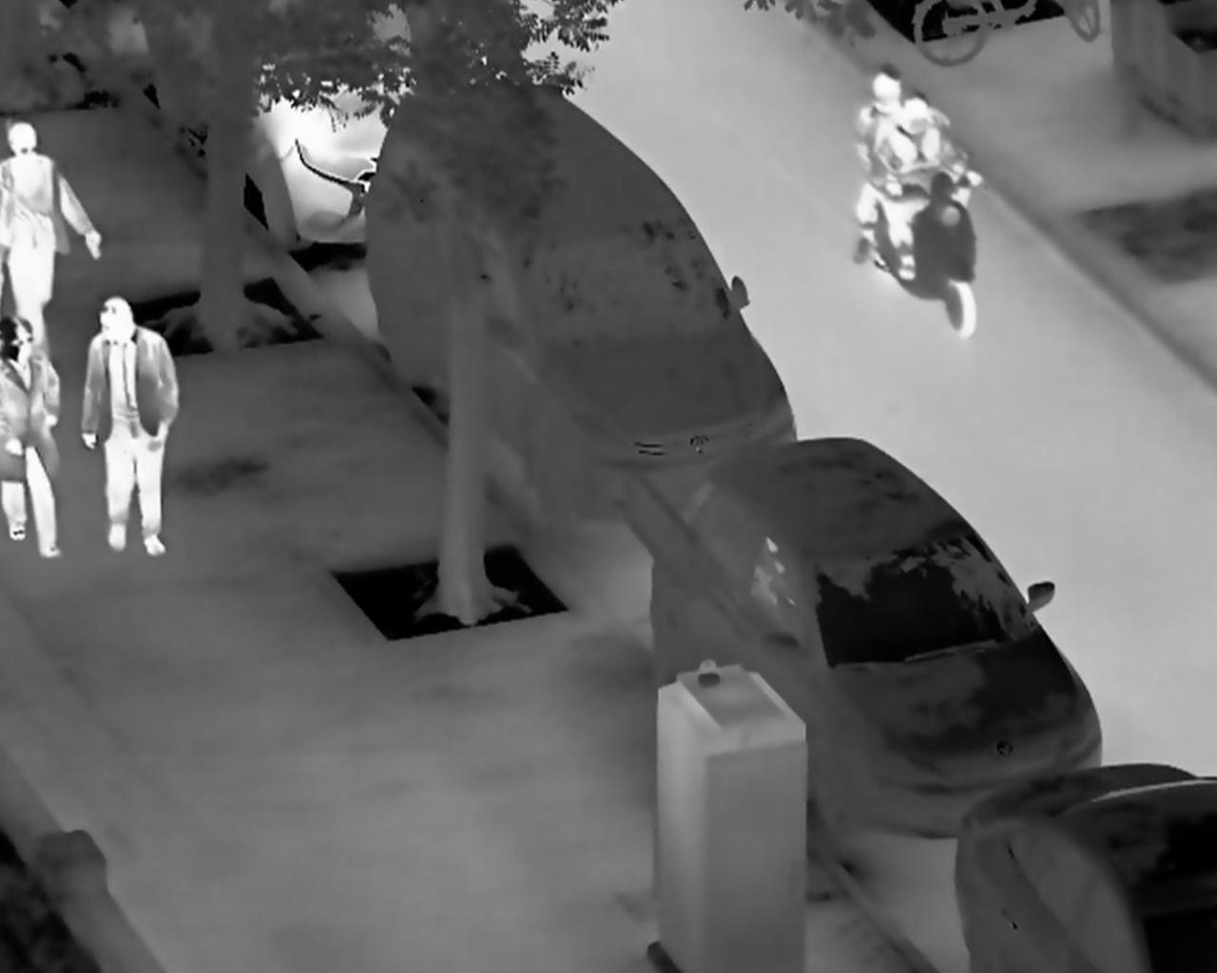person: (78, 296, 180, 557), (2, 119, 103, 362), (871, 89, 981, 286), (848, 64, 908, 270)
